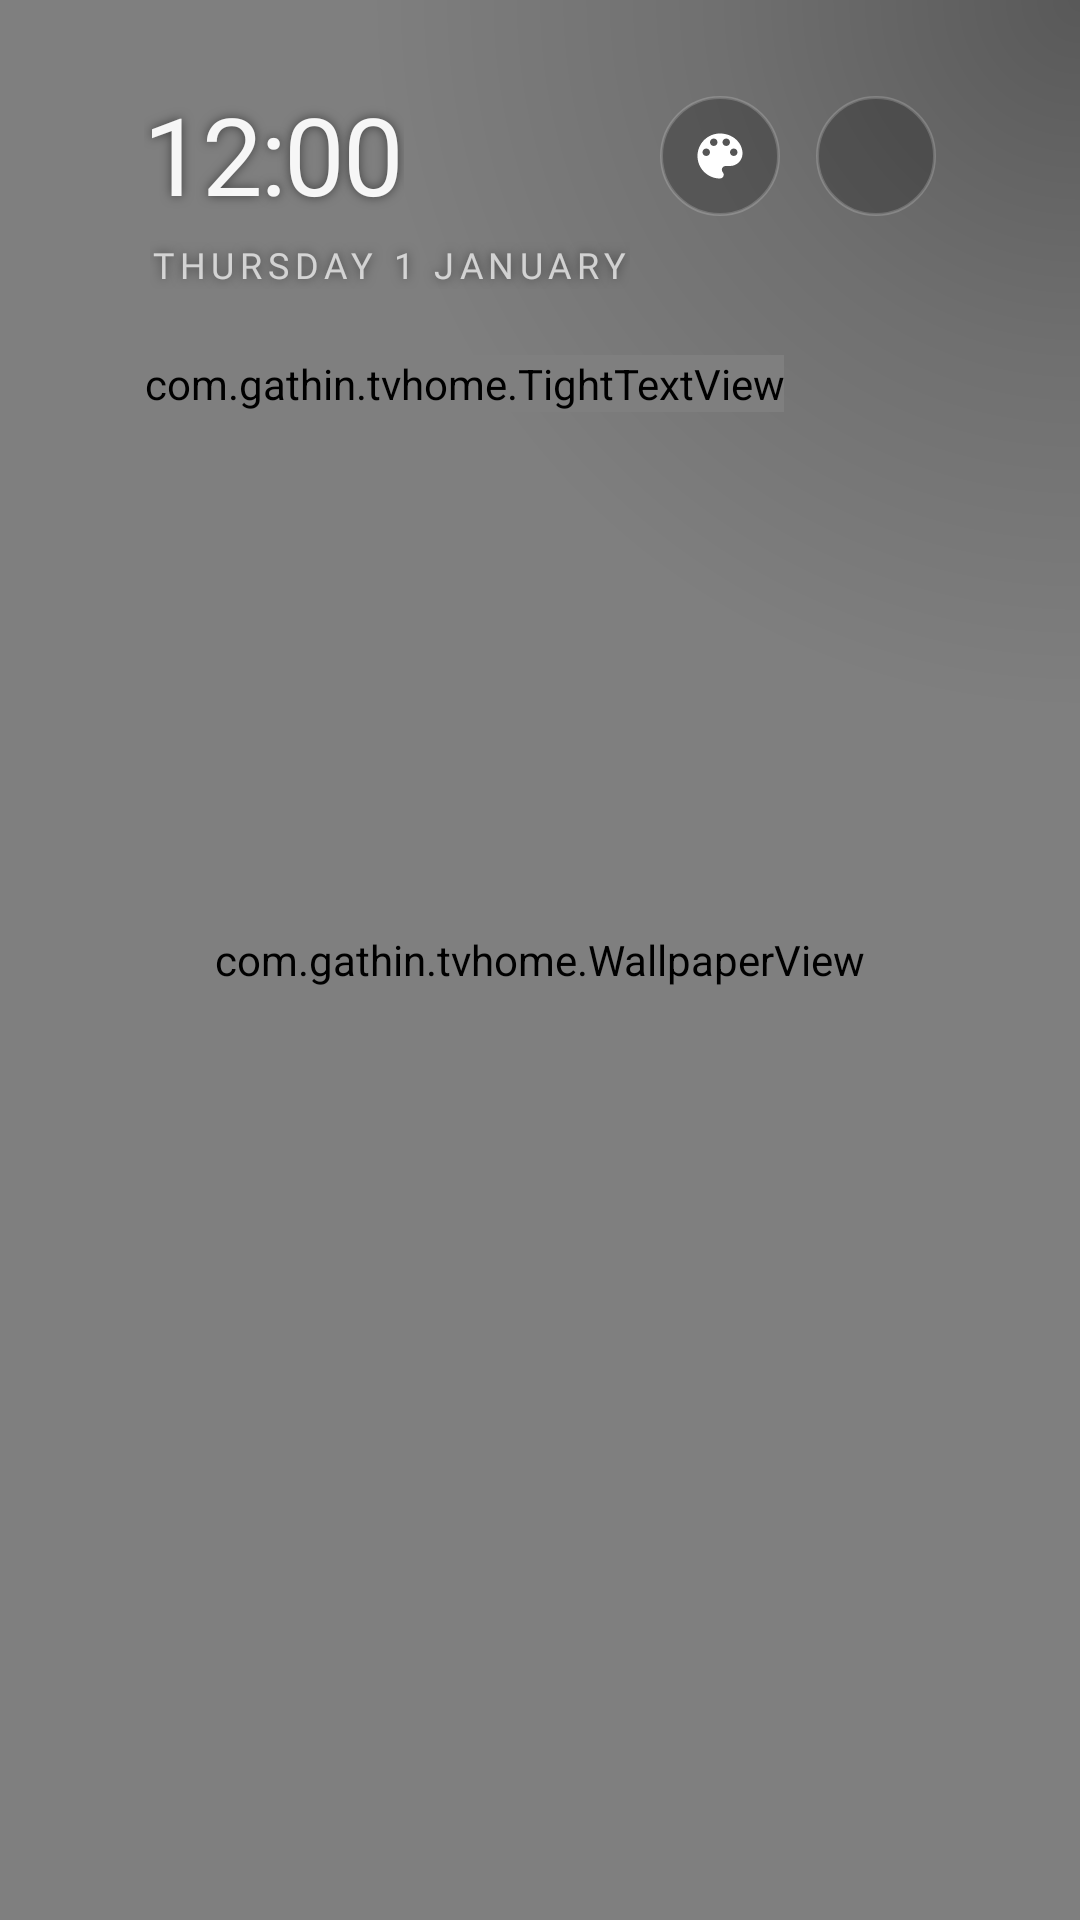

Where to tap for icons on this 1080px x 1920px app screen, as (x=x, y=y):
Art mode: (x=718, y=156)
